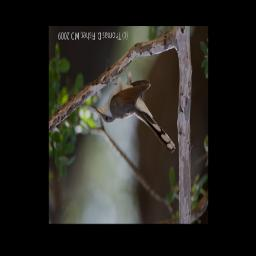Cuckoo: (93, 59, 177, 159)
